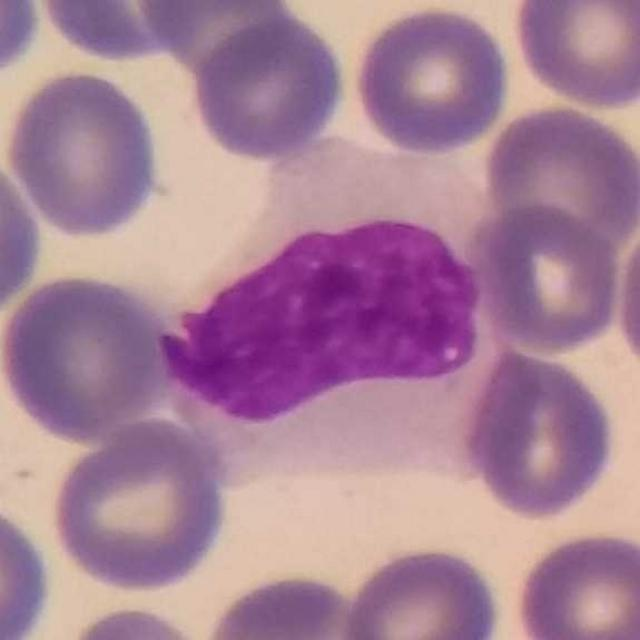Monocyte: (156, 129, 508, 487)
RBC: (45, 415, 234, 597), (0, 268, 178, 445), (1, 65, 167, 242), (460, 345, 621, 522), (348, 1, 516, 158), (187, 8, 351, 165), (466, 200, 628, 358), (479, 99, 640, 255), (335, 541, 506, 640), (507, 0, 640, 112), (510, 526, 640, 640), (196, 567, 377, 640), (130, 0, 299, 73), (30, 0, 207, 66), (0, 145, 47, 327), (0, 495, 57, 640), (59, 601, 215, 640), (612, 208, 640, 385), (0, 0, 45, 83)
